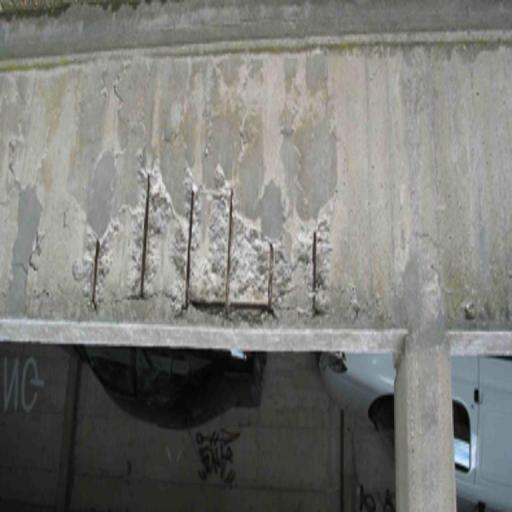spalling: (81, 164, 361, 322)
